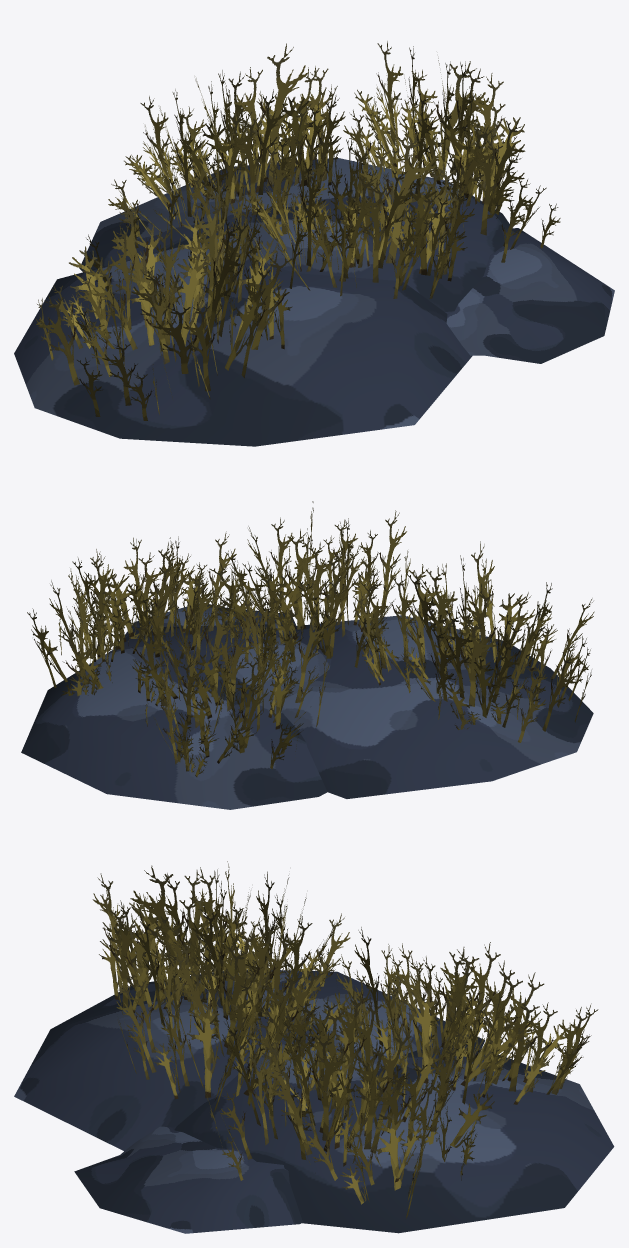
Rendered from Staghorn Coral 5_preview_3DS_simplified.glb.
3 renders of one model, top to bottom at view 1: azimuth 30°, elevation 25°; view 2: azimuth 150°, elevation 25°; view 3: azimuth 270°, elevation 25°, orthographic. The views are drawn at different scales.
Visible parts, largest first — view 1: Marine Park Empire model; view 2: Marine Park Empire model; view 3: Marine Park Empire model.
Part boxes in pixels (<box>): Marine Park Empire model: <box>14,41,614,446</box>; Marine Park Empire model: <box>21,501,594,809</box>; Marine Park Empire model: <box>14,861,614,1233</box>.
Size of the model in its own units: 179 by 65.65 by 158.
Materials: 2 (2 with a texture image).
